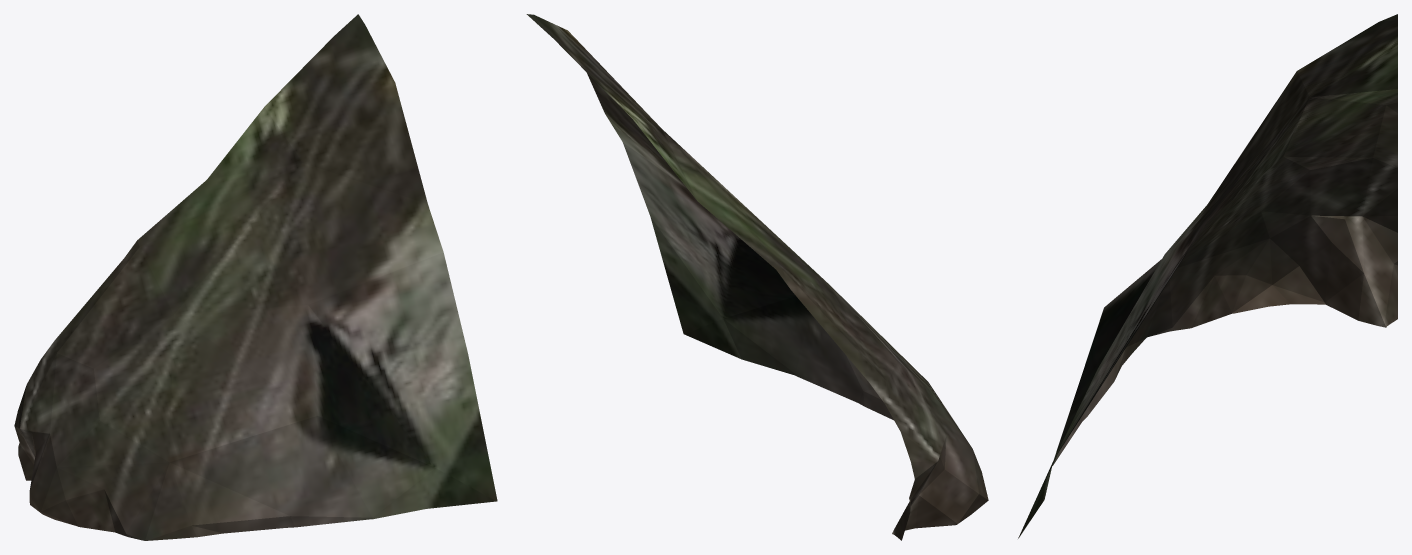
3 views of the same model, side by side, from view 1: azimuth 30°, elevation 25°; view 2: azimuth 150°, elevation 25°; view 3: azimuth 270°, elevation 25° (orthographic). The views are drawn at different scales.
Size of the model in its own units: 2.54 by 2.56 by 1.68.
1 material, 1 textured.
